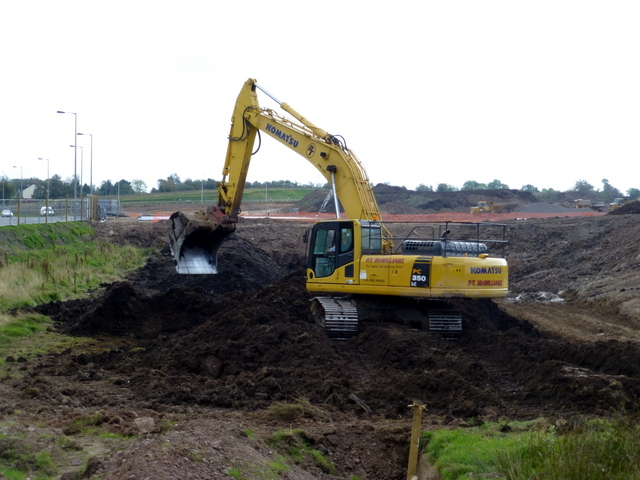excavator: (161, 69, 509, 345)
